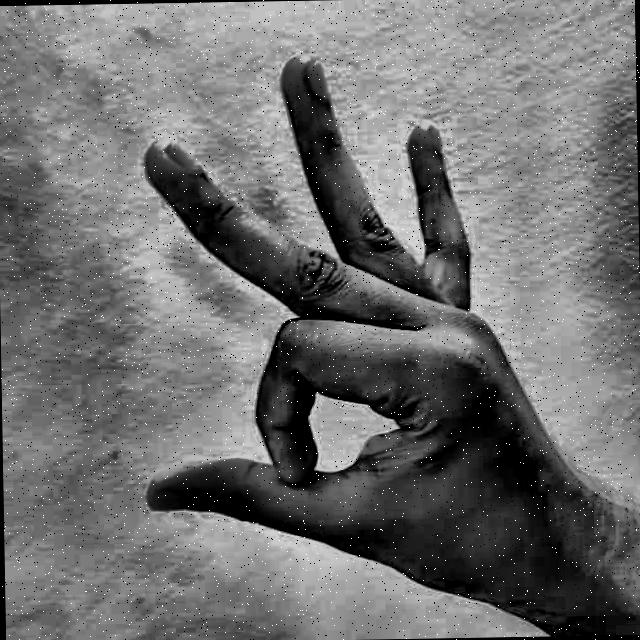Uo: (80, 28, 618, 622)
